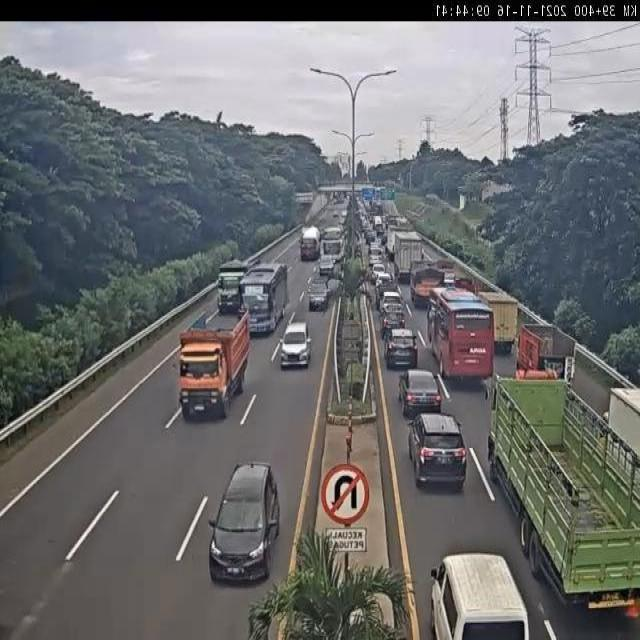Bus: (428, 288, 493, 379), (240, 262, 289, 334)
Car: (206, 463, 281, 583), (428, 552, 528, 639), (407, 413, 467, 490), (399, 368, 441, 419), (280, 320, 312, 369), (383, 327, 418, 370), (306, 277, 330, 311)
Truck: (486, 379, 640, 611), (179, 308, 249, 420), (517, 324, 577, 374), (481, 292, 515, 352), (216, 260, 250, 309), (319, 226, 346, 276), (394, 233, 424, 274), (408, 271, 444, 303), (300, 226, 322, 262)
